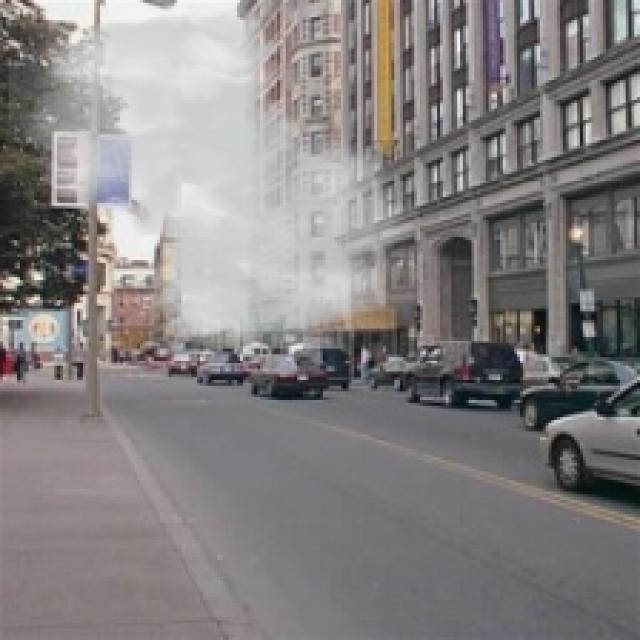smoke: (9, 0, 420, 349)
